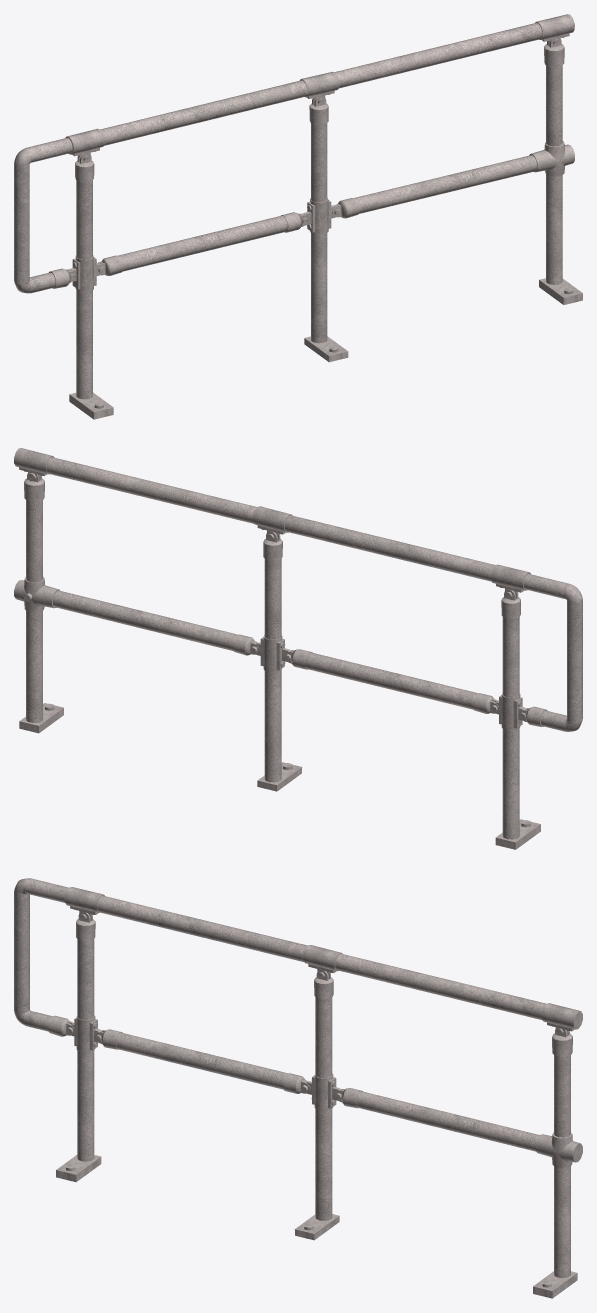
File: SM_Railing_01d.glb
3 views of the same model, one above another, from view 1: azimuth 30°, elevation 25°; view 2: azimuth 150°, elevation 25°; view 3: azimuth 330°, elevation 25° (orthographic).
Parts seen in each view (by area): view 1: SM_Railing_01d; view 2: SM_Railing_01d; view 3: SM_Railing_01d.
Part boxes in pixels (bbox=[...]): SM_Railing_01d: bbox=[14, 14, 582, 419]; SM_Railing_01d: bbox=[14, 448, 582, 849]; SM_Railing_01d: bbox=[14, 878, 582, 1298].
Bounding box in the file's own units: 2.21 × 1.03 × 0.1803.
1 material, 1 textured.
